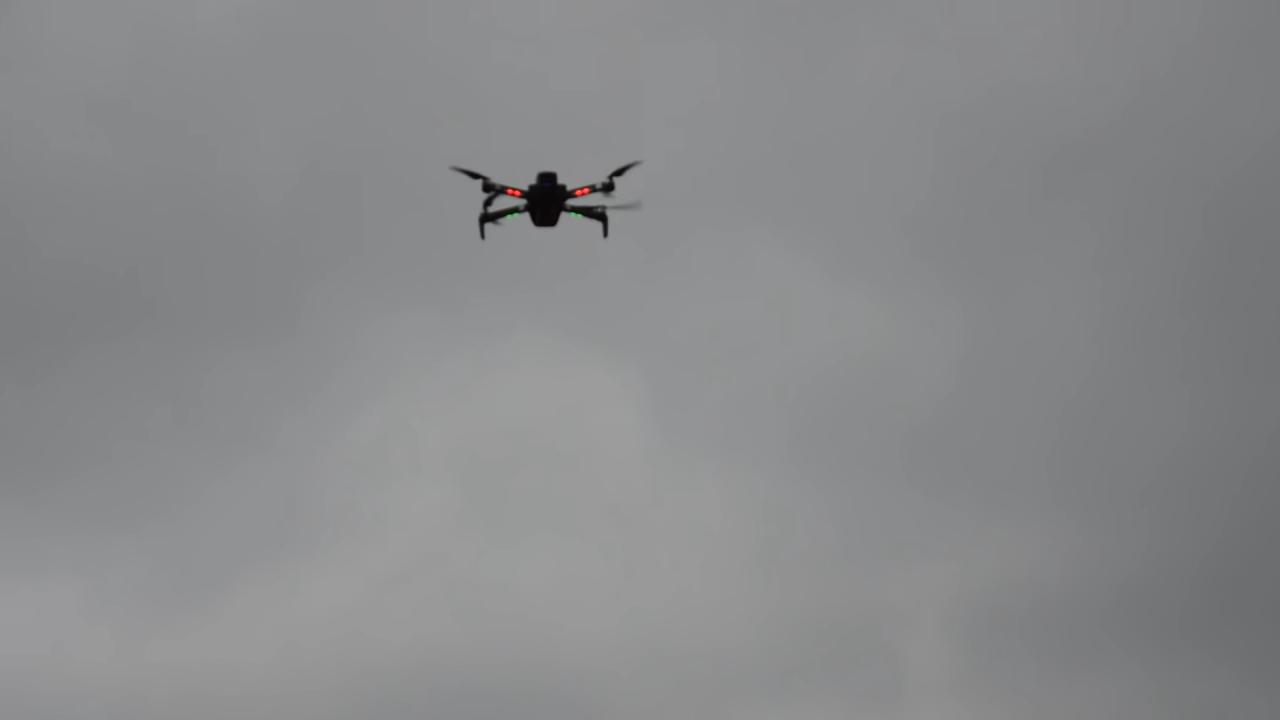Drone: (439, 152, 662, 248)
